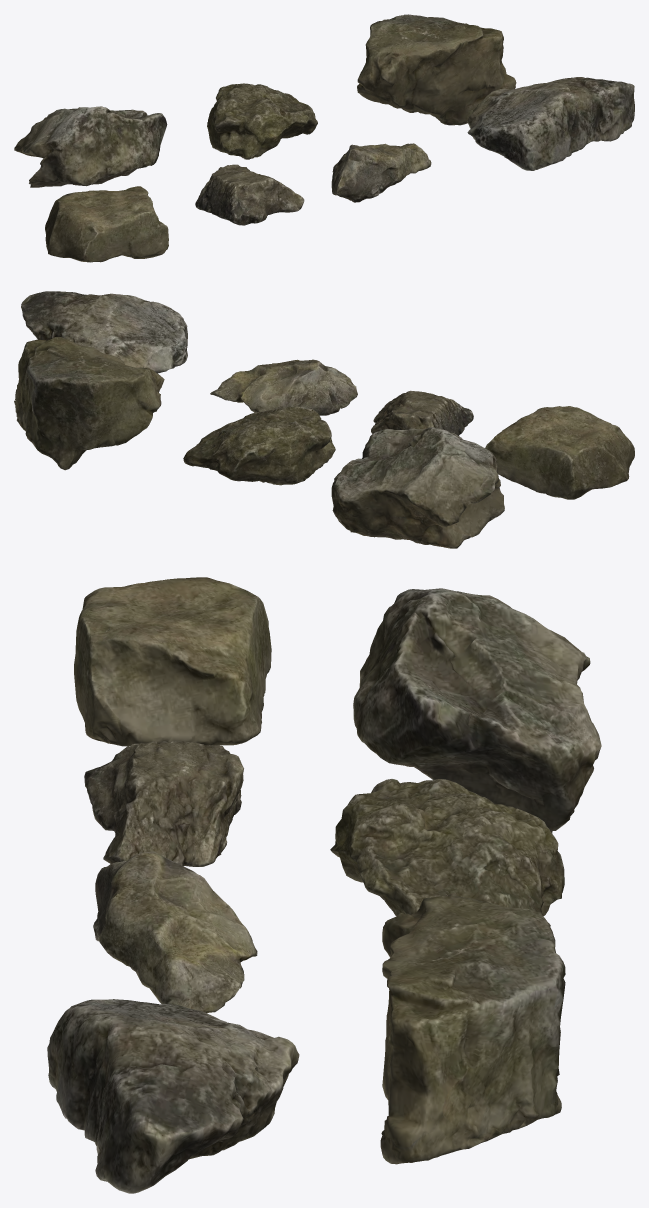
File: rock_moss_set_02.glb
3 views of the same model, one above another, from view 1: azimuth 30°, elevation 25°; view 2: azimuth 150°, elevation 25°; view 3: azimuth 270°, elevation 25° (orthographic). The views are drawn at different scales.
Parts seen in each view (by area): view 1: rock_moss_set_02_rock08; view 2: rock_moss_set_02_rock08; view 3: rock_moss_set_02_rock08.
Boxes of the visible parts, x1=… form: rock_moss_set_02_rock08: x1=14, y1=14, x2=634, y2=262; rock_moss_set_02_rock08: x1=14, y1=291, x2=634, y2=548; rock_moss_set_02_rock08: x1=47, y1=577, x2=601, y2=1193.
Size of the model in its own units: 8.28 by 1.37 by 3.41.
1 material, 1 textured.
